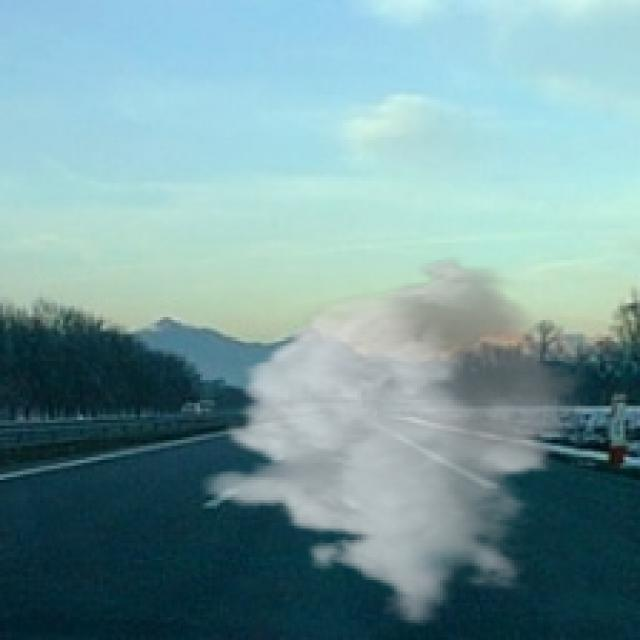Smoke: (200, 254, 597, 626)
